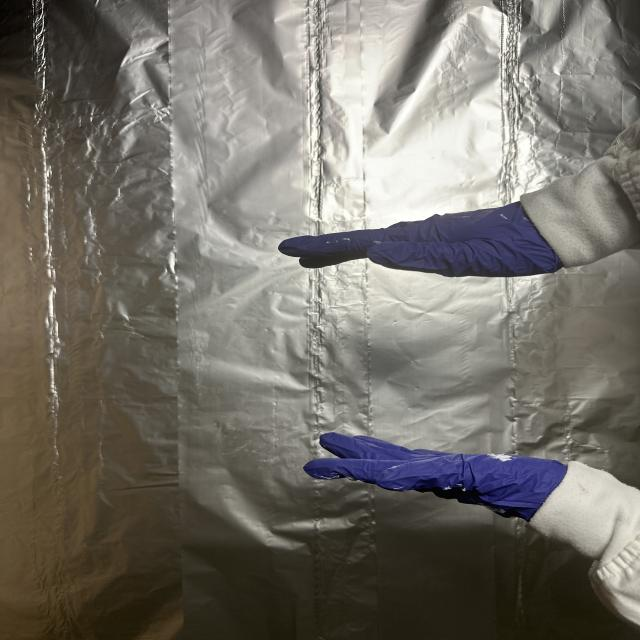gloves_contaminated: (304, 435, 566, 521), (279, 203, 562, 277)
